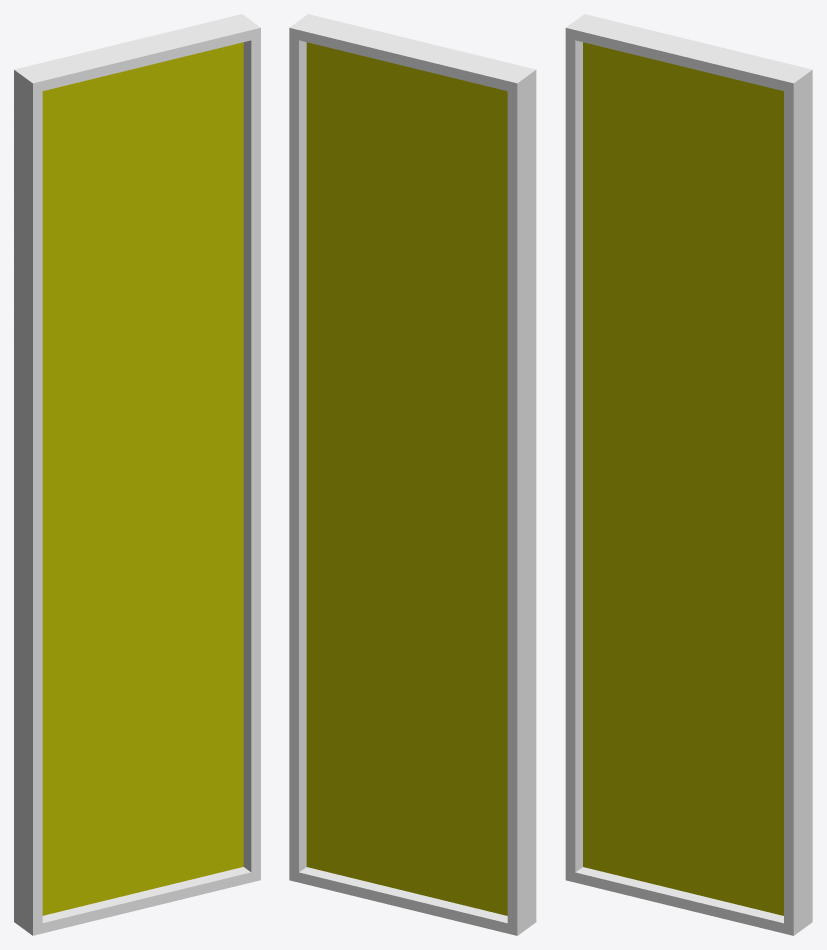
File: ventana_0.70_x_2.50.obj
3 renders of one model, left to right at view 1: azimuth 30°, elevation 25°; view 2: azimuth 150°, elevation 25°; view 3: azimuth 330°, elevation 25°, orthographic.
Parts seen in each view (by area): view 1: Mesh2 Panel_de_sistema___Acristalado_212251__3D_1 ventana_0_70_x, Mesh3 ventana_0_70_x_2_50_dwg1 Model, Mesh4 ventana_0_70_x_2_50_dwg1 Model; view 2: Mesh2 Panel_de_sistema___Acristalado_212251__3D_1 ventana_0_70_x, Mesh3 ventana_0_70_x_2_50_dwg1 Model, Mesh4 ventana_0_70_x_2_50_dwg1 Model; view 3: Mesh2 Panel_de_sistema___Acristalado_212251__3D_1 ventana_0_70_x, Mesh4 ventana_0_70_x_2_50_dwg1 Model, Mesh3 ventana_0_70_x_2_50_dwg1 Model.
Boxes of the visible parts, left/top/right/bottom form: Mesh2 Panel_de_sistema___Acristalado_212251__3D_1 ventana_0_70_x: left=42, top=42, right=243, bottom=915; Mesh3 ventana_0_70_x_2_50_dwg1 Model: left=14, top=16, right=251, bottom=935; Mesh4 ventana_0_70_x_2_50_dwg1 Model: left=42, top=14, right=260, bottom=933; Mesh2 Panel_de_sistema___Acristalado_212251__3D_1 ventana_0_70_x: left=306, top=42, right=507, bottom=915; Mesh3 ventana_0_70_x_2_50_dwg1 Model: left=299, top=16, right=536, bottom=935; Mesh4 ventana_0_70_x_2_50_dwg1 Model: left=289, top=14, right=507, bottom=933; Mesh2 Panel_de_sistema___Acristalado_212251__3D_1 ventana_0_70_x: left=583, top=42, right=783, bottom=915; Mesh4 ventana_0_70_x_2_50_dwg1 Model: left=575, top=67, right=812, bottom=935; Mesh3 ventana_0_70_x_2_50_dwg1 Model: left=565, top=14, right=802, bottom=882.
Bounding box in the file's own units: 701 × 2500 × 101.
